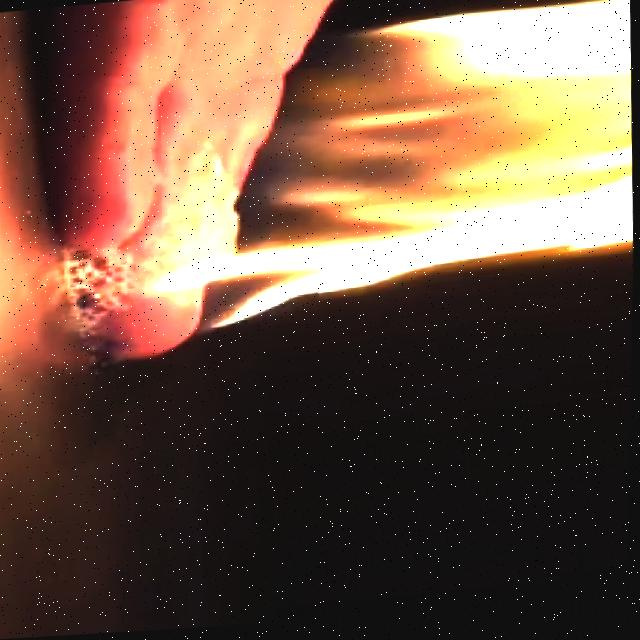Fire: (117, 0, 640, 341)
